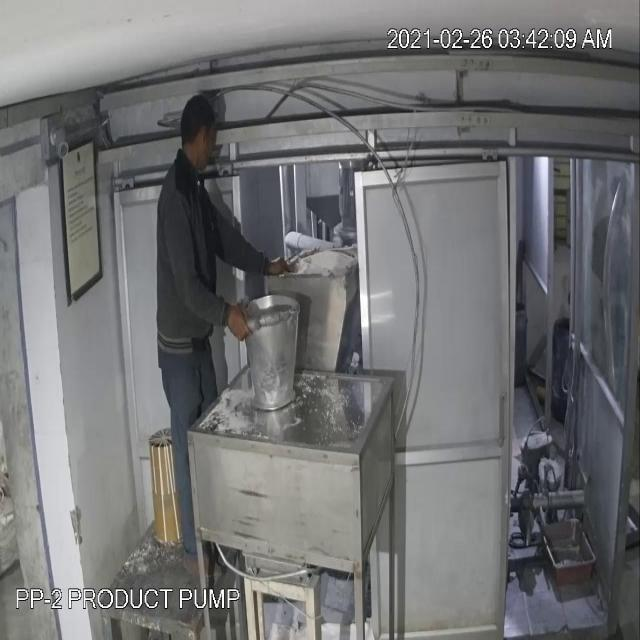no hat: (179, 85, 219, 184)
